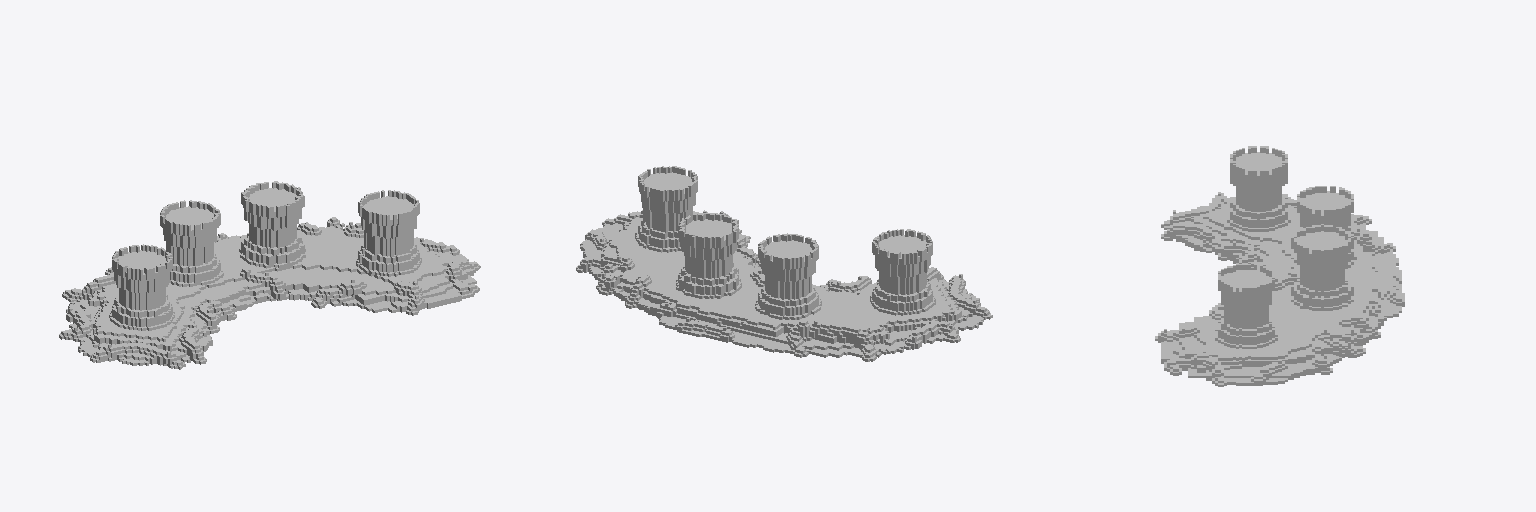
The model's file is Untitled_Material.001 1.mat.vox.obj.
3 renders of one model, left to right at view 1: azimuth 30°, elevation 25°; view 2: azimuth 150°, elevation 25°; view 3: azimuth 270°, elevation 25°, orthographic.
Visible parts, largest first — view 1: object 1; view 2: object 1; view 3: object 1.
Boxes of the visible parts, x1=… form: object 1: x1=59, y1=181, x2=480, y2=369; object 1: x1=576, y1=166, x2=992, y2=361; object 1: x1=1155, y1=146, x2=1404, y2=386.
Bounding box in the file's own units: 14.8 × 2.7 × 8.3.